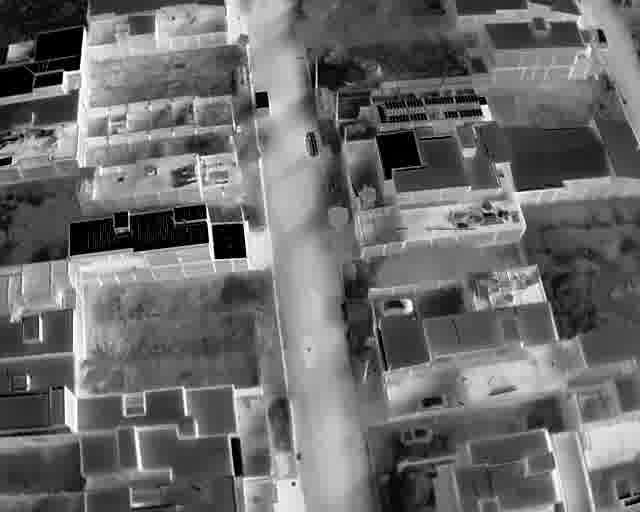car: (376, 298, 413, 317), (399, 425, 433, 445), (416, 394, 450, 411), (590, 26, 608, 48), (306, 131, 319, 156)
